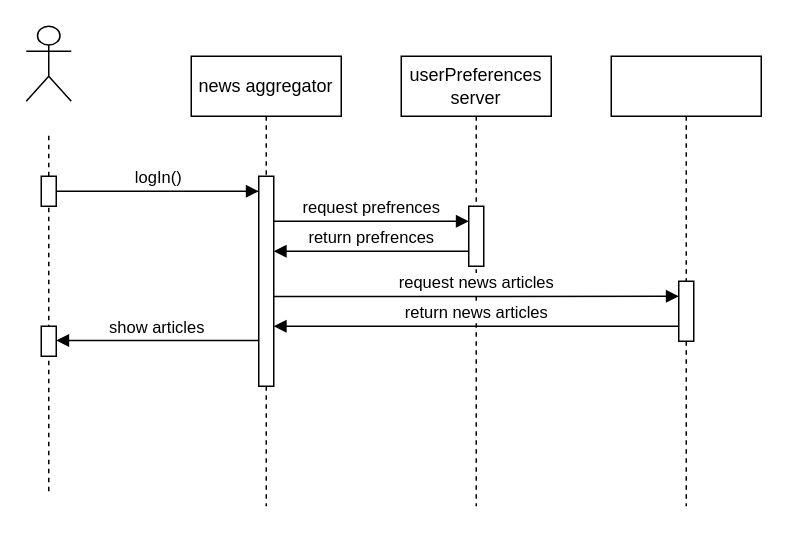
Image size: 788x533. Some labels were removed from this diagram. Here are the shapes that lost their labels. From the top down, the centre of each, then its label:
At point 48,63: "Actor".
At point 685,280: "news api".
